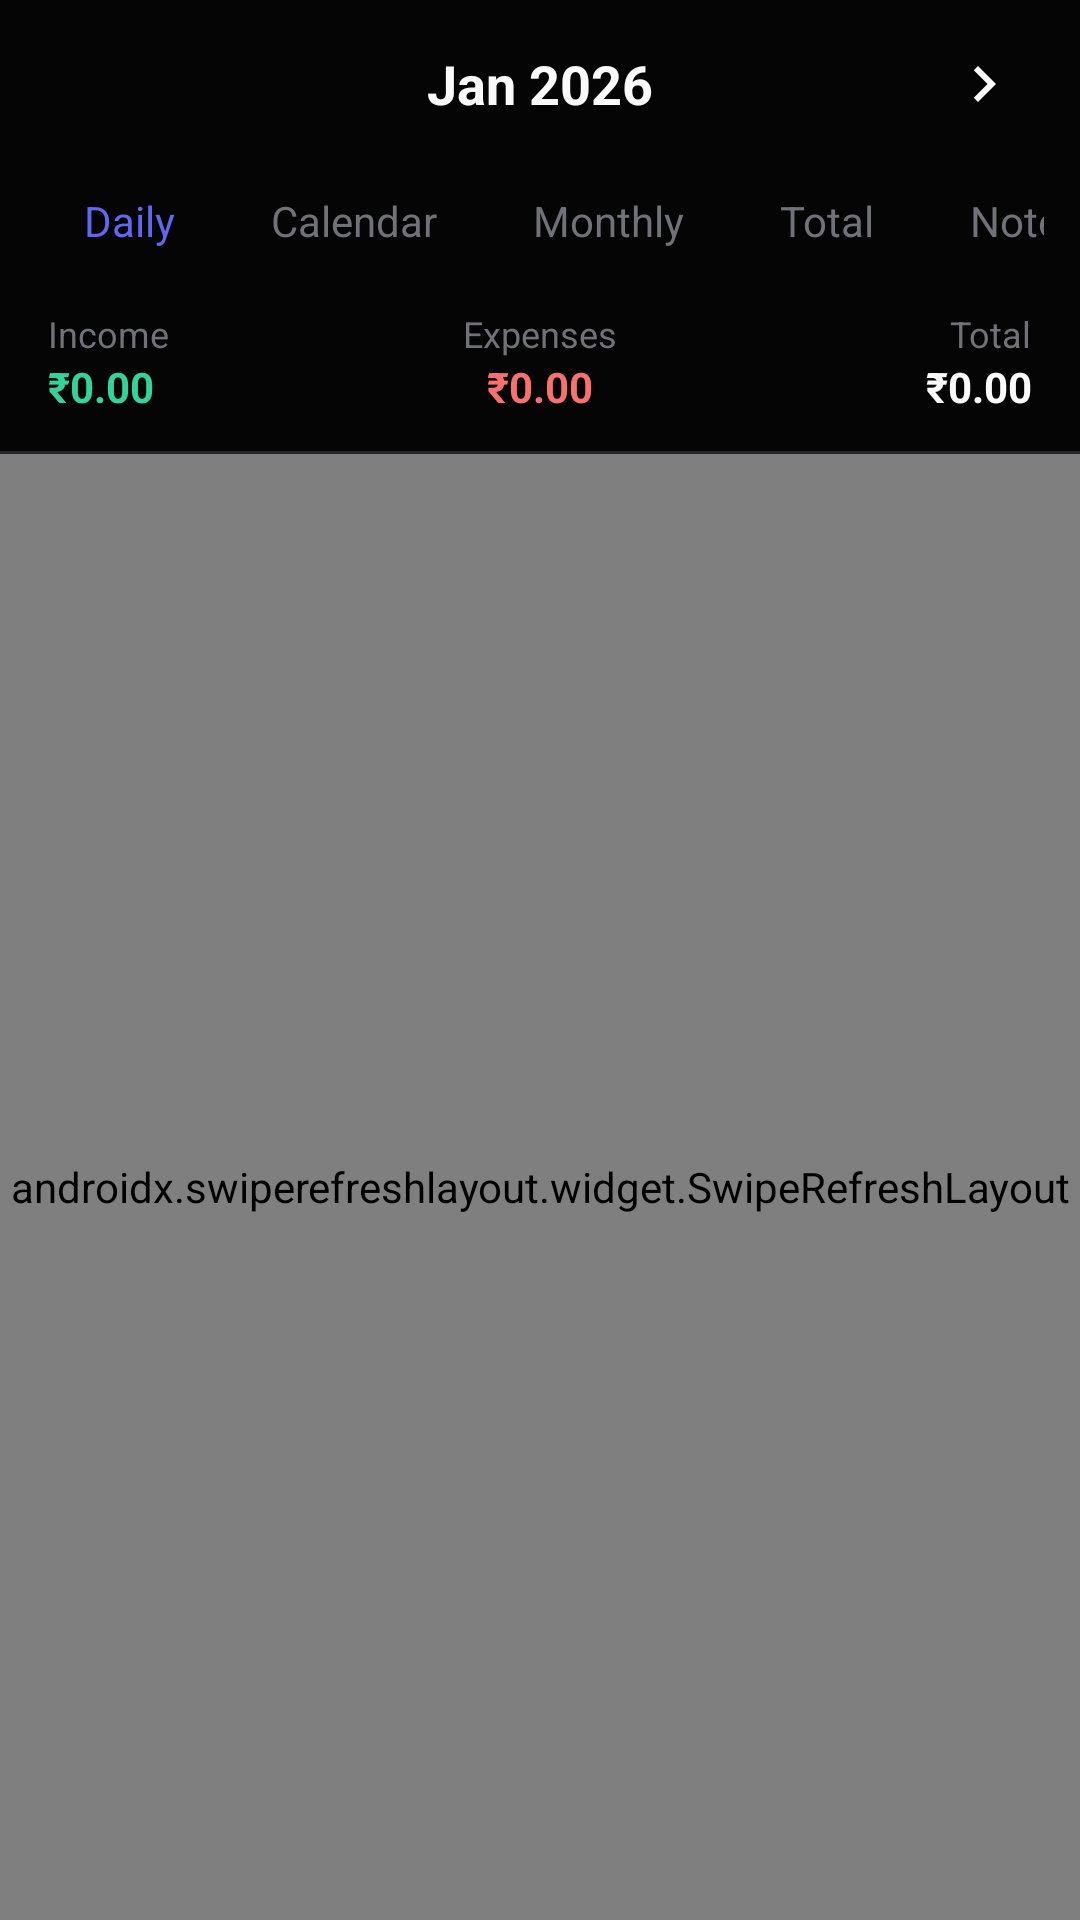

Icon bounding boxes for this 1080px x 1920px phone screenshot, format [x1=x1, y1=y1, x2=x2, y2=y2]:
Next Month: [x1=974, y1=66, x2=996, y2=102]
